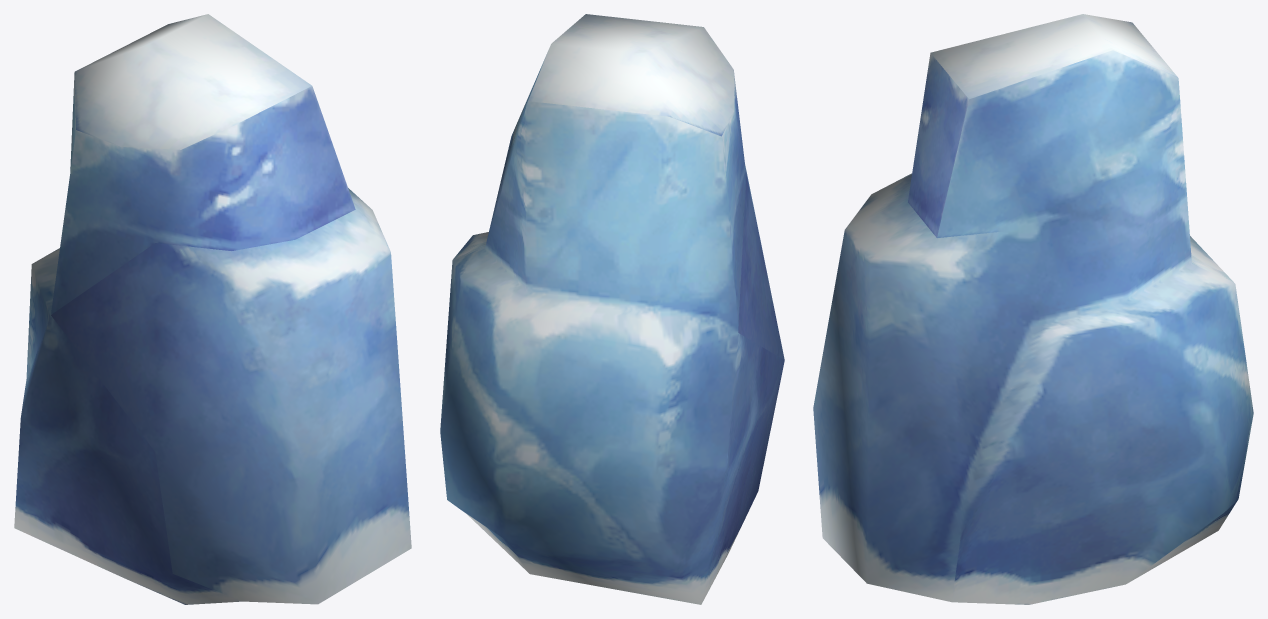
Rendered from SM_stoneA_07.fbx.
3 views of the same model, side by side, from view 1: azimuth 30°, elevation 25°; view 2: azimuth 150°, elevation 25°; view 3: azimuth 270°, elevation 25° (orthographic). The views are drawn at different scales.
Parts seen in each view (by area): view 1: SM_stoneA_07; view 2: SM_stoneA_07; view 3: SM_stoneA_07.
Boxes of the visible parts, <box> form: SM_stoneA_07: <box>14,14,411,604</box>; SM_stoneA_07: <box>440,14,784,604</box>; SM_stoneA_07: <box>813,14,1253,604</box>.
Bounding box in the file's own units: 8.83 × 14.16 × 10.68.
